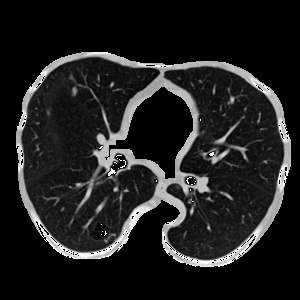PN: (71, 88, 77, 94)
